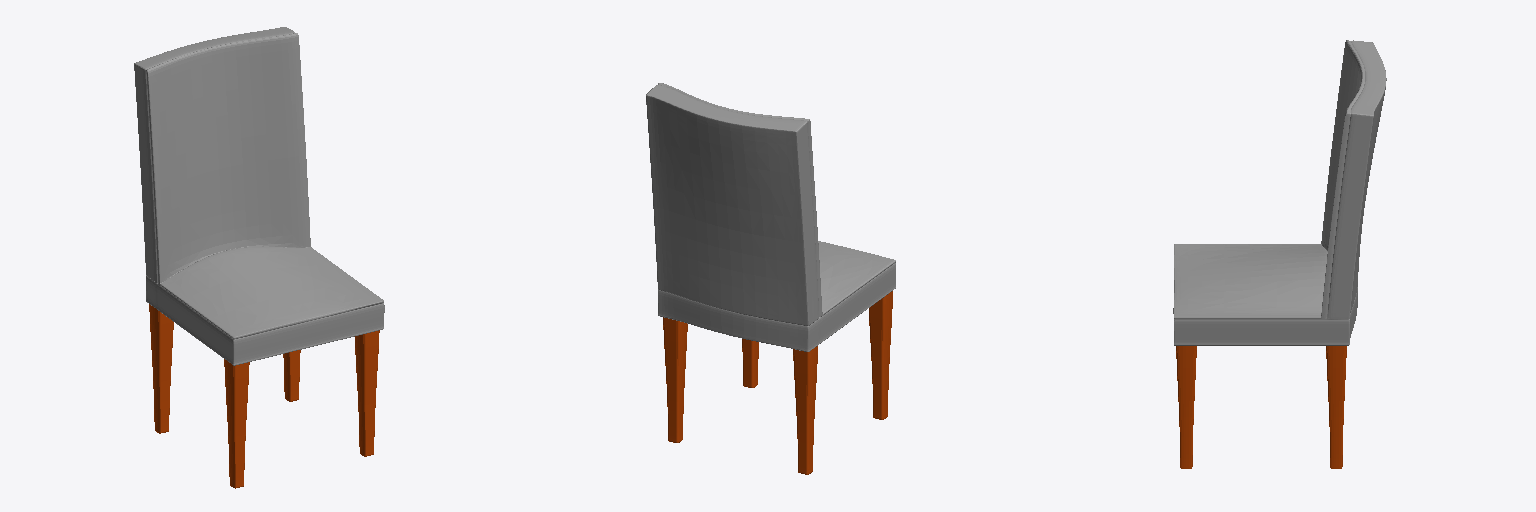
Rendered from Chair_textile.obj.
3 renders of one model, left to right at view 1: azimuth 30°, elevation 25°; view 2: azimuth 150°, elevation 25°; view 3: azimuth 270°, elevation 25°, orthographic.
Parts seen in each view (by area): view 1: Untitled_Cube.001, Cube; view 2: Untitled_Cube.001, Cube; view 3: Untitled_Cube.001, Cube.
Part boxes in pixels (left/top/right/bottom): Untitled_Cube.001: left=134, top=27, right=384, bottom=365; Cube: left=149, top=304, right=379, bottom=488; Untitled_Cube.001: left=646, top=83, right=895, bottom=351; Cube: left=663, top=291, right=892, bottom=474; Untitled_Cube.001: left=1173, top=40, right=1386, bottom=345; Cube: left=1176, top=346, right=1346, bottom=468.
Bounding box in the file's own units: 2.26 × 5.12 × 2.75.